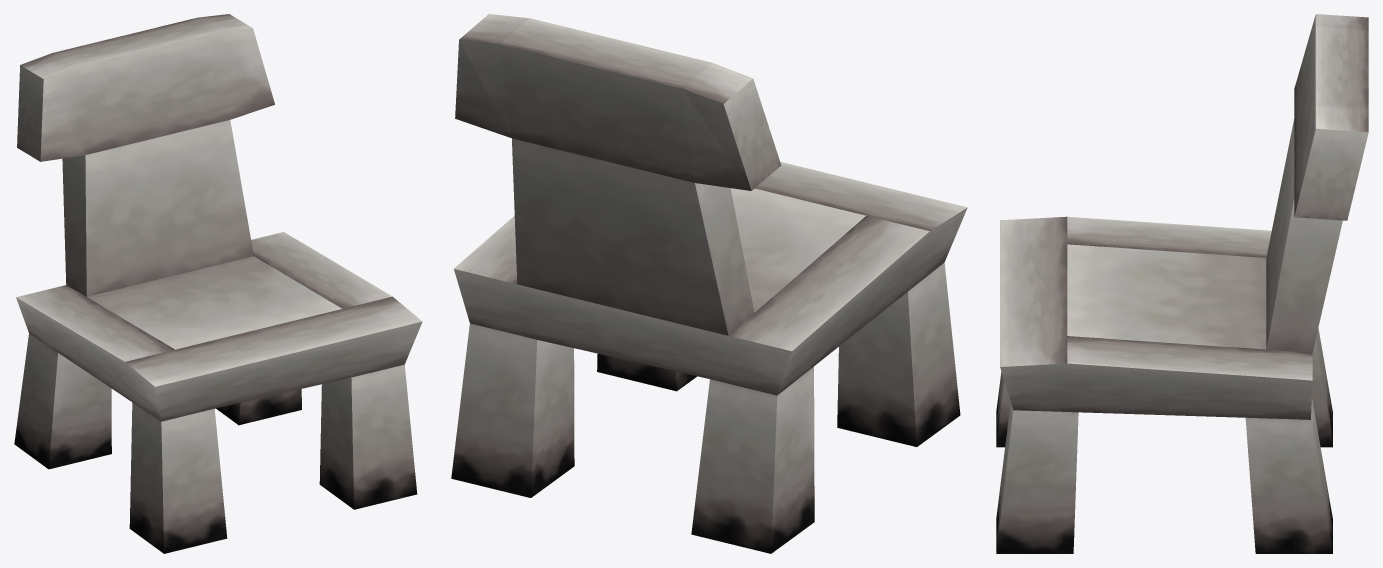
The model's file is chair.dae.
3 views of the same model, side by side, from view 1: azimuth 30°, elevation 25°; view 2: azimuth 150°, elevation 25°; view 3: azimuth 270°, elevation 25° (orthographic). The views are drawn at different scales.
Visible parts, largest first — view 1: Box01; view 2: Box01; view 3: Box01.
Boxes of the visible parts, box(x1,y1,x2,y2) form: Box01: box(14, 14, 422, 553); Box01: box(451, 14, 967, 553); Box01: box(996, 14, 1368, 553).
Bounding box in the file's own units: 0.8305 × 1.1 × 0.8907.
